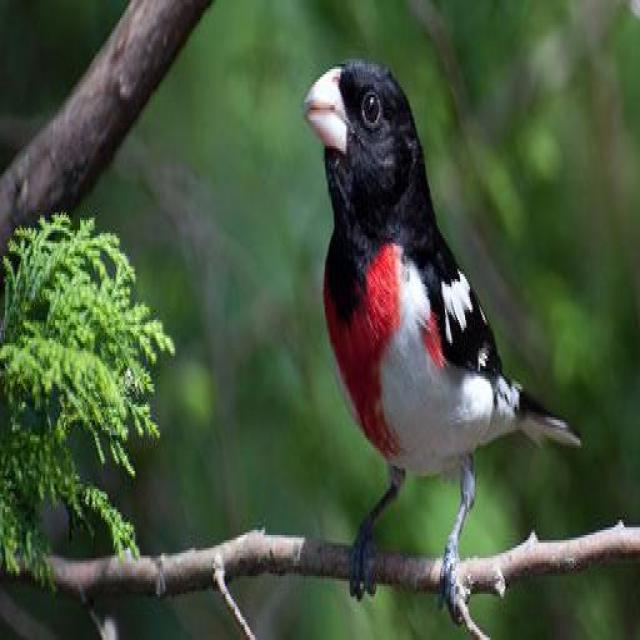other: (314, 232, 414, 467)
